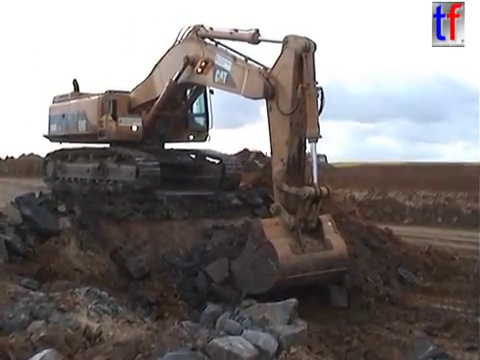excavator: (38, 20, 353, 301)
wheel loader: (226, 142, 332, 184)
